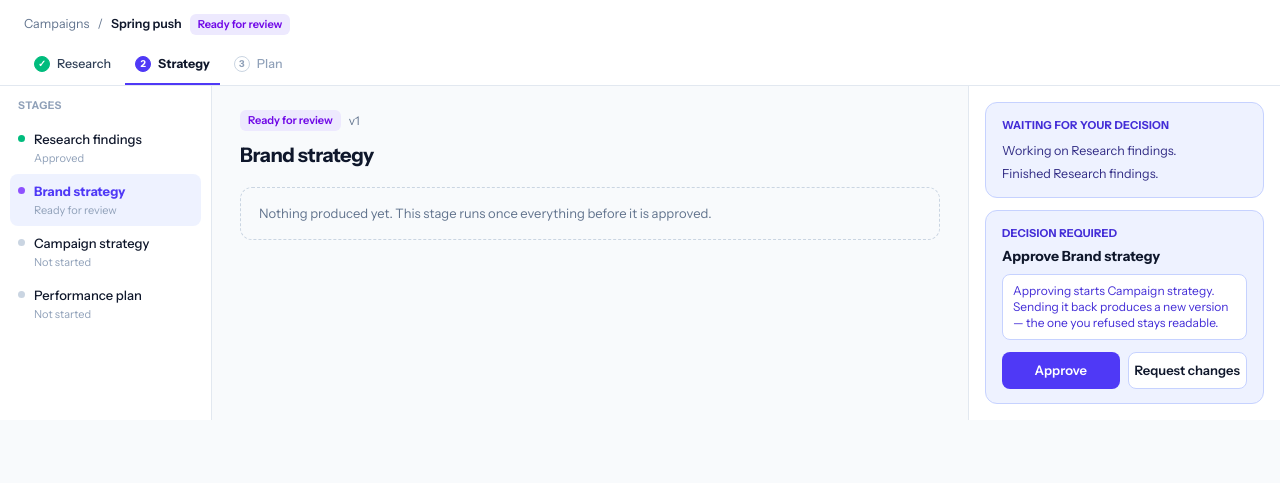
approving a stage › keeps the progress feed on screen and marks the next stage as started
This screenshot has width=1280, height=483.
Click the button "Approve" at (1061, 371), box left=1002, top=352, right=1120, bottom=389
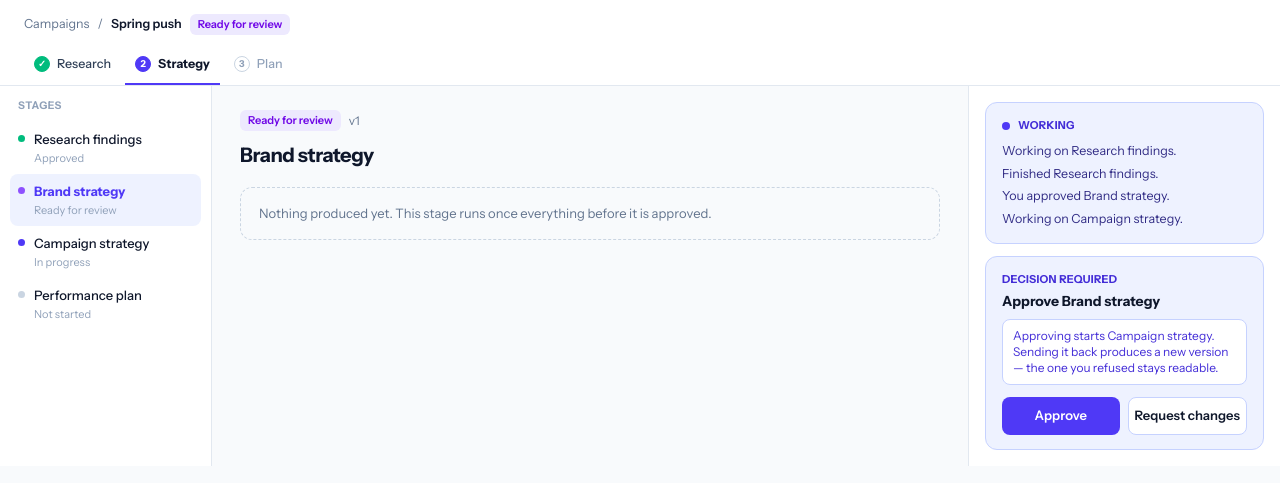
Expected: the element named "Run progress" shows "Finished Research findings.", left=1002, top=166, right=1158, bottom=180
Expected: the text "Run progress" no longer shows "Waiting for your decision"
Expected: the element named "Run progress" shows "You approved Brand strategy.", left=1002, top=188, right=1170, bottom=203
